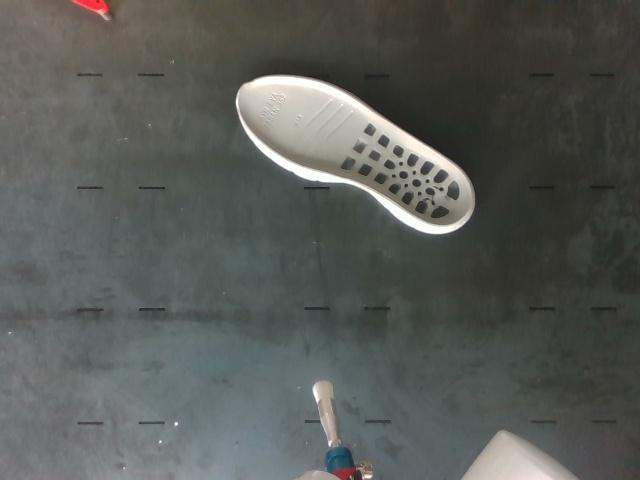shoes: (237, 77, 472, 225)
